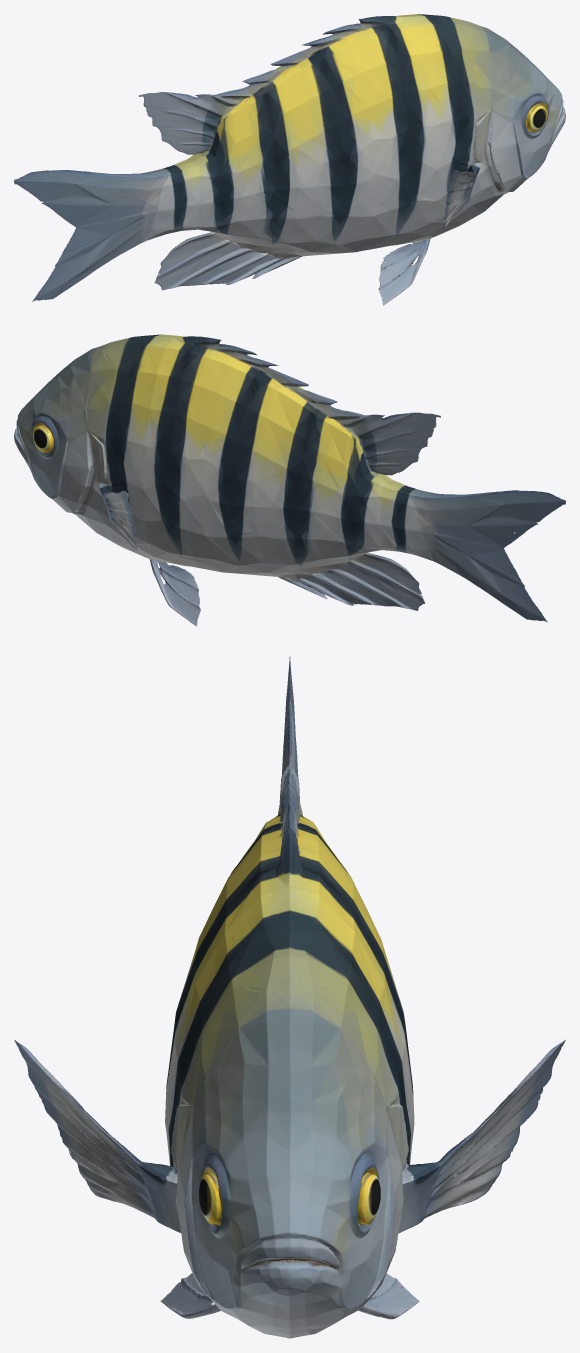
The model's file is Petaca-banderita.glb.
3 renders of one model, top to bottom at view 1: azimuth 30°, elevation 25°; view 2: azimuth 150°, elevation 25°; view 3: azimuth 270°, elevation 25°, orthographic. The views are drawn at different scales.
Visible parts, largest first — view 1: tripo_node_6fb5e1fe-f4ad-4572-b3f8-6eaf72105ab1; view 2: tripo_node_6fb5e1fe-f4ad-4572-b3f8-6eaf72105ab1; view 3: tripo_node_6fb5e1fe-f4ad-4572-b3f8-6eaf72105ab1.
Part boxes in pixels (x1,y1,x2,y2): tripo_node_6fb5e1fe-f4ad-4572-b3f8-6eaf72105ab1: (14, 14, 565, 305); tripo_node_6fb5e1fe-f4ad-4572-b3f8-6eaf72105ab1: (14, 334, 565, 626); tripo_node_6fb5e1fe-f4ad-4572-b3f8-6eaf72105ab1: (14, 656, 565, 1338).
Size of the model in its own units: 1 by 0.4507 by 0.4656.
1 material, 1 textured.
